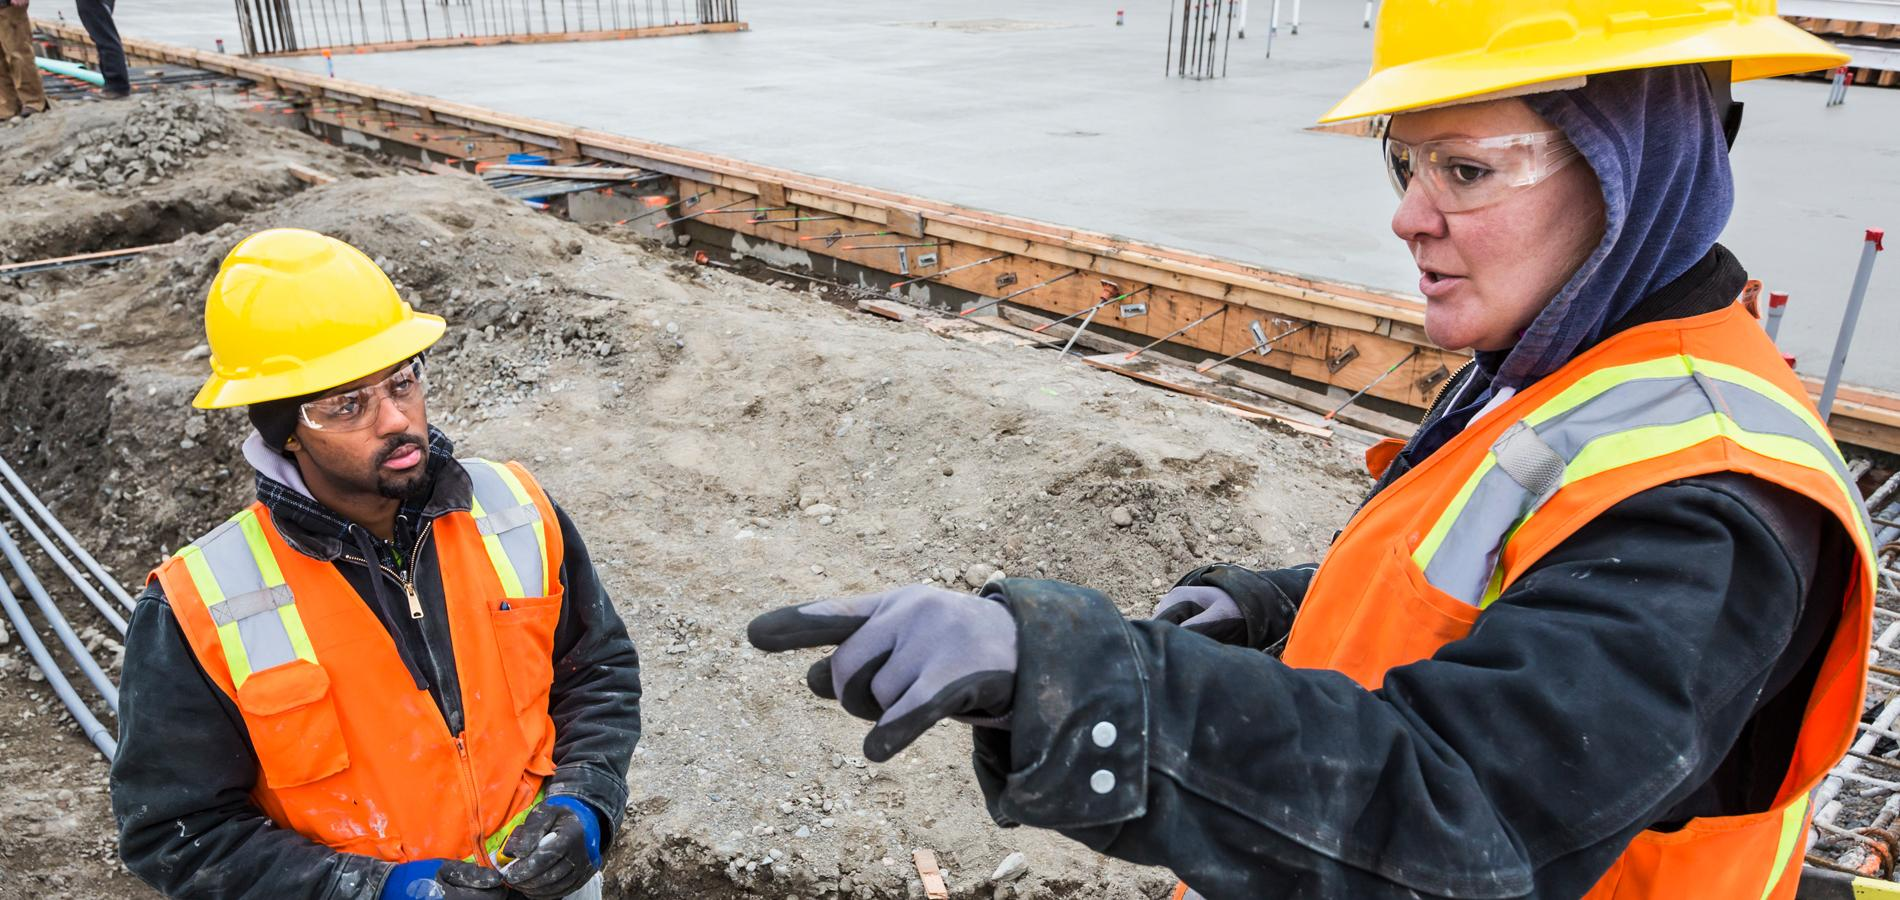helmet: (1299, 1, 1856, 143), (187, 225, 450, 415)
